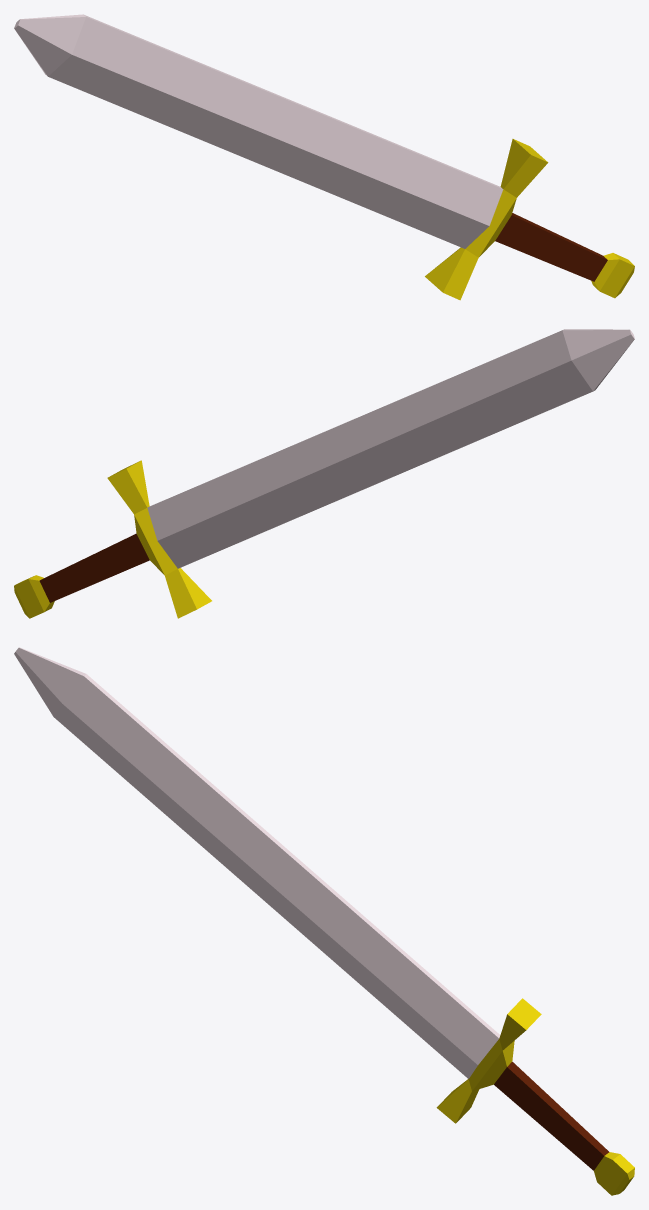
The model's file is sword1.glb.
The picture shows the model from 3 angles, top to bottom: view 1: azimuth 30°, elevation 25°; view 2: azimuth 150°, elevation 25°; view 3: azimuth 330°, elevation 25°; orthographic projection. The views are drawn at different scales.
Parts seen in each view (by area): view 1: Cube.018; view 2: Cube.018; view 3: Cube.018.
Boxes of the visible parts, box(x1,y1,x2,y2) form: Cube.018: box(14, 14, 634, 300); Cube.018: box(14, 329, 634, 618); Cube.018: box(14, 647, 634, 1195).
Bounding box in the file's own units: 0.8405 × 0.555 × 0.068.
